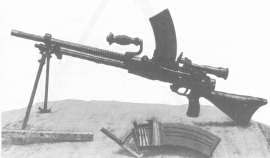rifle: (11, 7, 267, 134)
